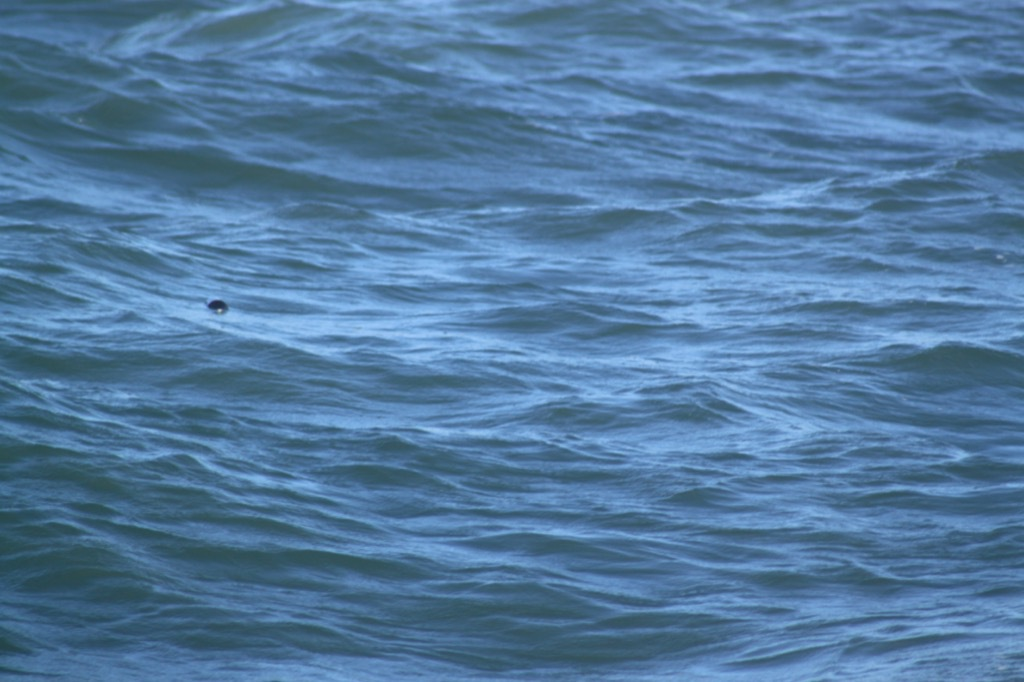plastic: (174, 261, 258, 351)
